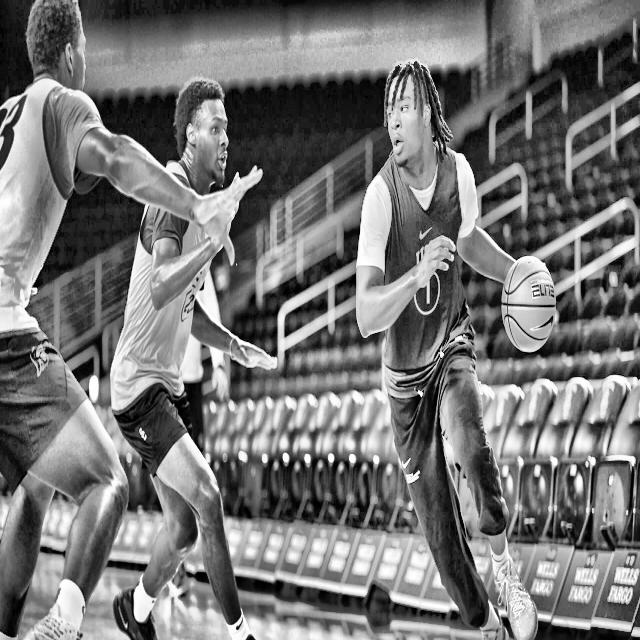Basketball: (502, 255, 557, 352)
